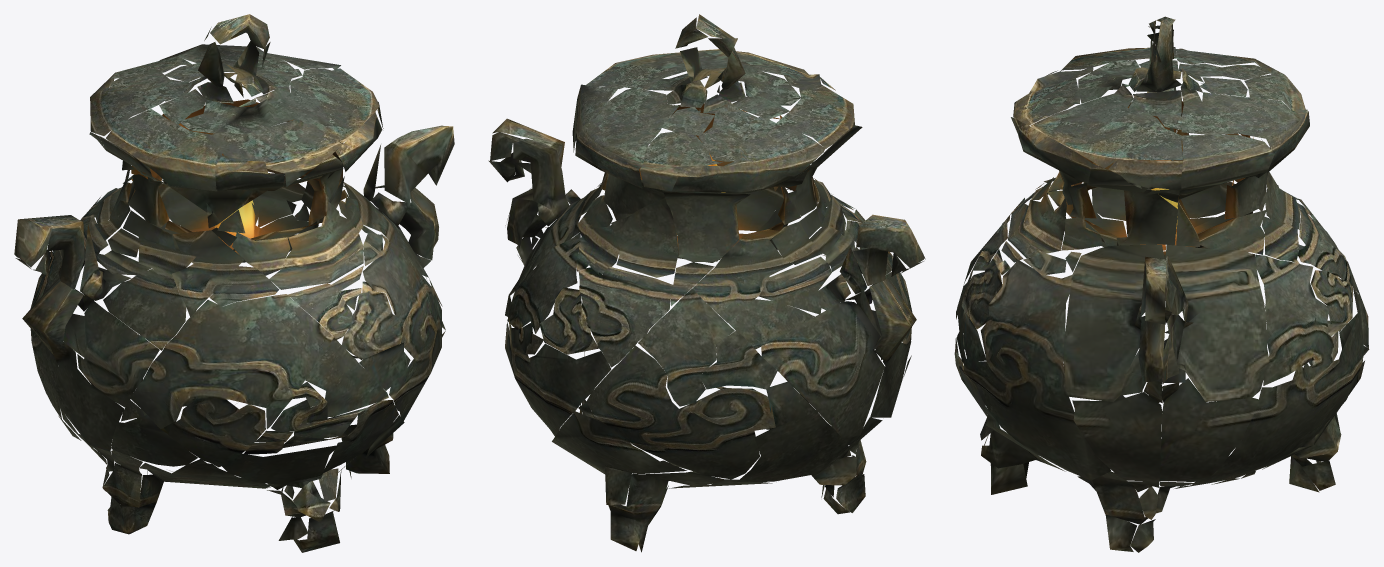
The model's file is soul_lamp.glb.
3 renders of one model, left to right at view 1: azimuth 30°, elevation 25°; view 2: azimuth 150°, elevation 25°; view 3: azimuth 270°, elevation 25°, orthographic.
Parts seen in each view (by area): view 1: tripo_node_a528b211-6107-4fbd-98e9-4629b84420f3; view 2: tripo_node_a528b211-6107-4fbd-98e9-4629b84420f3; view 3: tripo_node_a528b211-6107-4fbd-98e9-4629b84420f3.
Boxes of the visible parts, left/top/right/bottom form: tripo_node_a528b211-6107-4fbd-98e9-4629b84420f3: left=14, top=14, right=454, bottom=552; tripo_node_a528b211-6107-4fbd-98e9-4629b84420f3: left=488, top=14, right=925, bottom=552; tripo_node_a528b211-6107-4fbd-98e9-4629b84420f3: left=954, top=16, right=1369, bottom=552.
Bounding box in the file's own units: 0.9565 × 0.9952 × 0.7756.
1 material, 1 textured.
